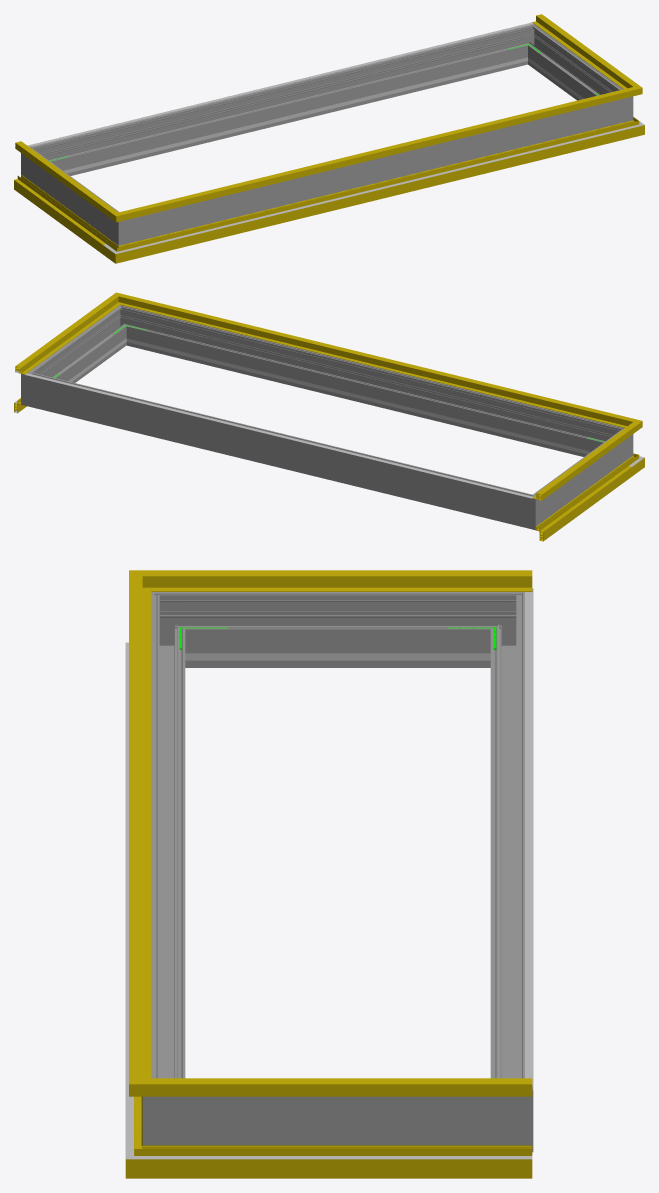
3 renders of one model, top to bottom at view 1: azimuth 30°, elevation 25°; view 2: azimuth 150°, elevation 25°; view 3: azimuth 270°, elevation 25°, orthographic. The views are drawn at different scales.
Visible parts, largest first — view 1: 3DGeom-276, 3DGeom-298, 3DGeom-90, 3DGeom-123, 3DGeom-297, 3DGeom-244, 3DGeom-268, 3DGeom-85, 3DGeom-128, 3DGeom-220, 3DGeom-100, 3DGeom-118 (+7 smaller); view 2: 3DGeom-298, 3DGeom-276, 3DGeom-123, 3DGeom-297, 3DGeom-239, 3DGeom-268, 3DGeom-85, 3DGeom-128, 3DGeom-220, 3DGeom-118, 3DGeom-278, 3DGeom-284 (+3 smaller); view 3: 3DGeom-268, 3DGeom-276, 3DGeom-298, 3DGeom-297, 3DGeom-97, 3DGeom-123, 3DGeom-118, 3DGeom-128, 3DGeom-220, 3DGeom-284, 3DGeom-290, 3DGeom-278 (+8 smaller).
Part boxes in pixels (x1,y1,x2,y2): 3DGeom-276: [45, 28, 524, 175]; 3DGeom-298: [140, 102, 611, 240]; 3DGeom-90: [133, 124, 622, 258]; 3DGeom-123: [135, 91, 620, 216]; 3DGeom-297: [530, 31, 616, 100]; 3DGeom-244: [71, 62, 506, 172]; 3DGeom-268: [33, 154, 112, 236]; 3DGeom-85: [14, 174, 109, 254]; 3DGeom-128: [532, 14, 629, 86]; 3DGeom-220: [27, 22, 533, 146]; 3DGeom-100: [136, 129, 622, 248]; 3DGeom-118: [15, 141, 108, 212]; 3DGeom-298: [130, 309, 609, 456]; 3DGeom-276: [43, 376, 517, 524]; 3DGeom-123: [133, 298, 620, 425]; 3DGeom-297: [37, 313, 124, 382]; 3DGeom-239: [147, 343, 582, 453]; 3DGeom-268: [541, 435, 620, 516]; 3DGeom-85: [536, 462, 632, 541]; 3DGeom-128: [15, 302, 112, 374]; 3DGeom-220: [25, 373, 533, 498]; 3DGeom-118: [532, 429, 629, 500]; 3DGeom-278: [513, 488, 548, 530]; 3DGeom-284: [21, 365, 46, 409]; 3DGeom-268: [193, 592, 482, 667]; 3DGeom-276: [490, 610, 533, 1078]; 3DGeom-298: [151, 610, 185, 1078]; 3DGeom-297: [193, 1096, 482, 1145]; 3DGeom-97: [176, 1145, 532, 1178]; 3DGeom-123: [129, 592, 151, 1074]; 3DGeom-118: [180, 570, 532, 591]; 3DGeom-128: [180, 1078, 532, 1096]; 3DGeom-220: [525, 591, 532, 1087]; 3DGeom-284: [482, 1069, 533, 1152]; 3DGeom-290: [142, 1069, 193, 1145]; 3DGeom-278: [482, 588, 533, 667].
Size of the model in its own units: 3.66 by 0.3069 by 1.22.
